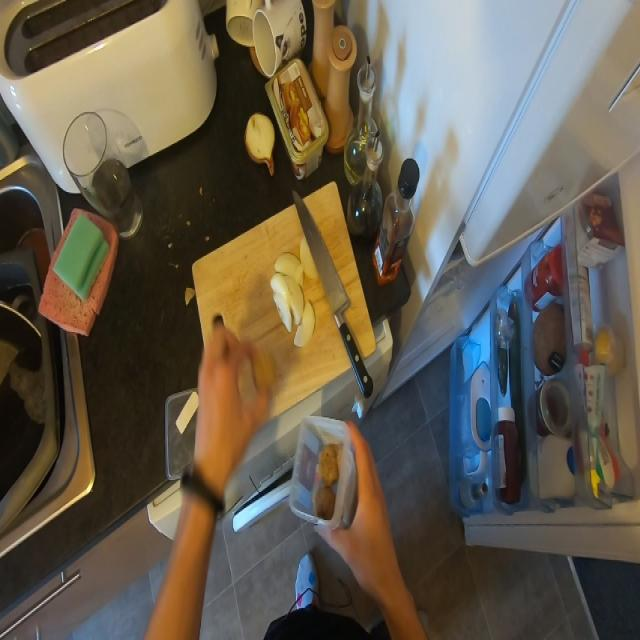fridge: (441, 0, 640, 556)
glass: (59, 109, 141, 224)
knife: (294, 186, 376, 397)
left hand: (198, 307, 265, 493)
mug: (249, 0, 308, 64)
oil: (379, 144, 415, 288)
onion: (246, 102, 277, 178)
right hand: (332, 417, 390, 618)
sponge: (35, 196, 115, 332)
